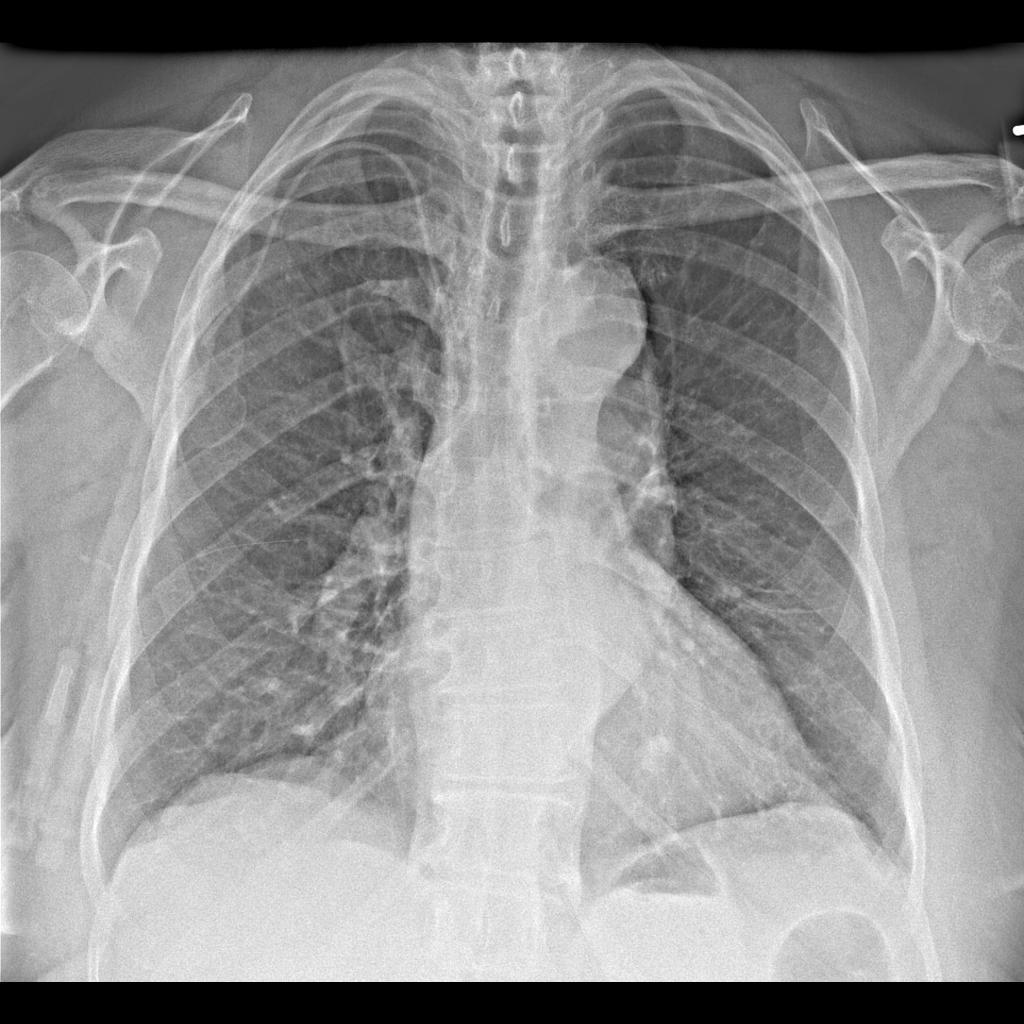Nodule: (630, 729, 684, 797)
